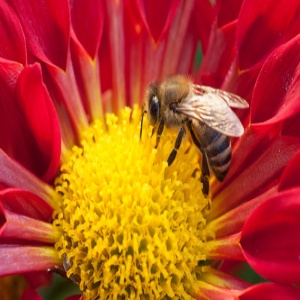bee: (138, 71, 251, 212)
